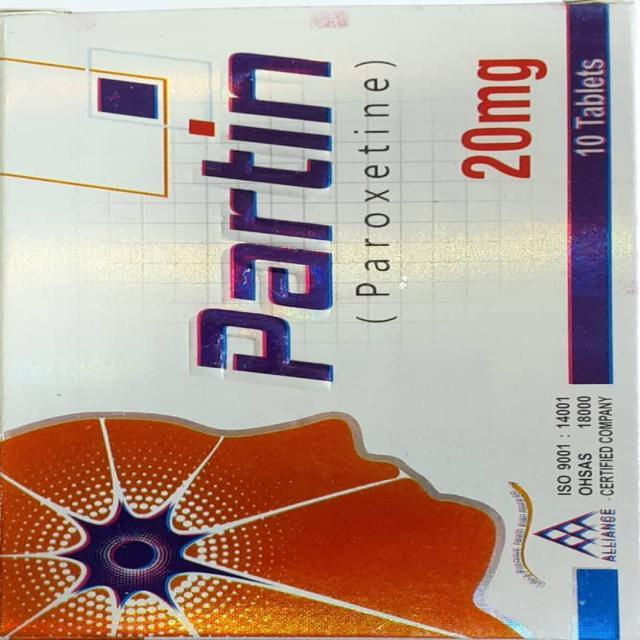drug-name: (178, 43, 344, 386)
